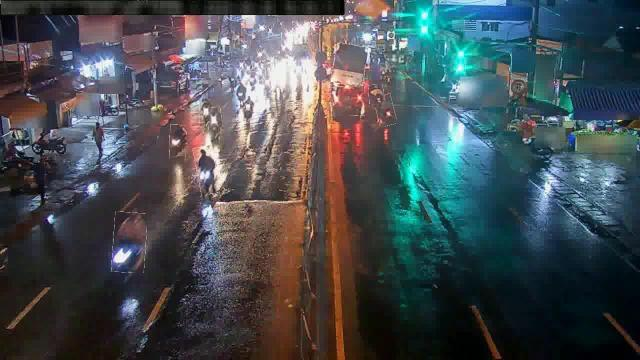Bike: (112, 212, 146, 273), (196, 146, 218, 194), (375, 94, 395, 126), (170, 125, 187, 159), (208, 108, 222, 137), (368, 84, 384, 108), (235, 80, 248, 102), (242, 96, 252, 122), (200, 99, 210, 124), (264, 74, 272, 93), (249, 72, 255, 86)
Car: (330, 86, 366, 116)
Truck: (332, 44, 368, 86)
